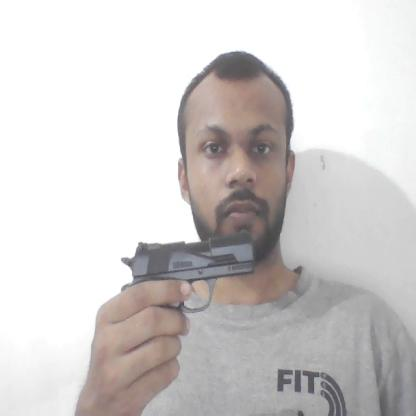handgun: (121, 228, 255, 314)
